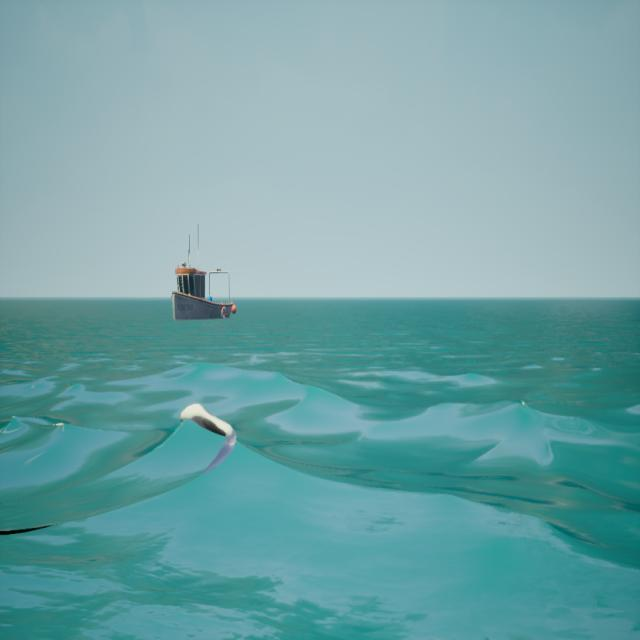ship: (162, 208, 237, 342)
